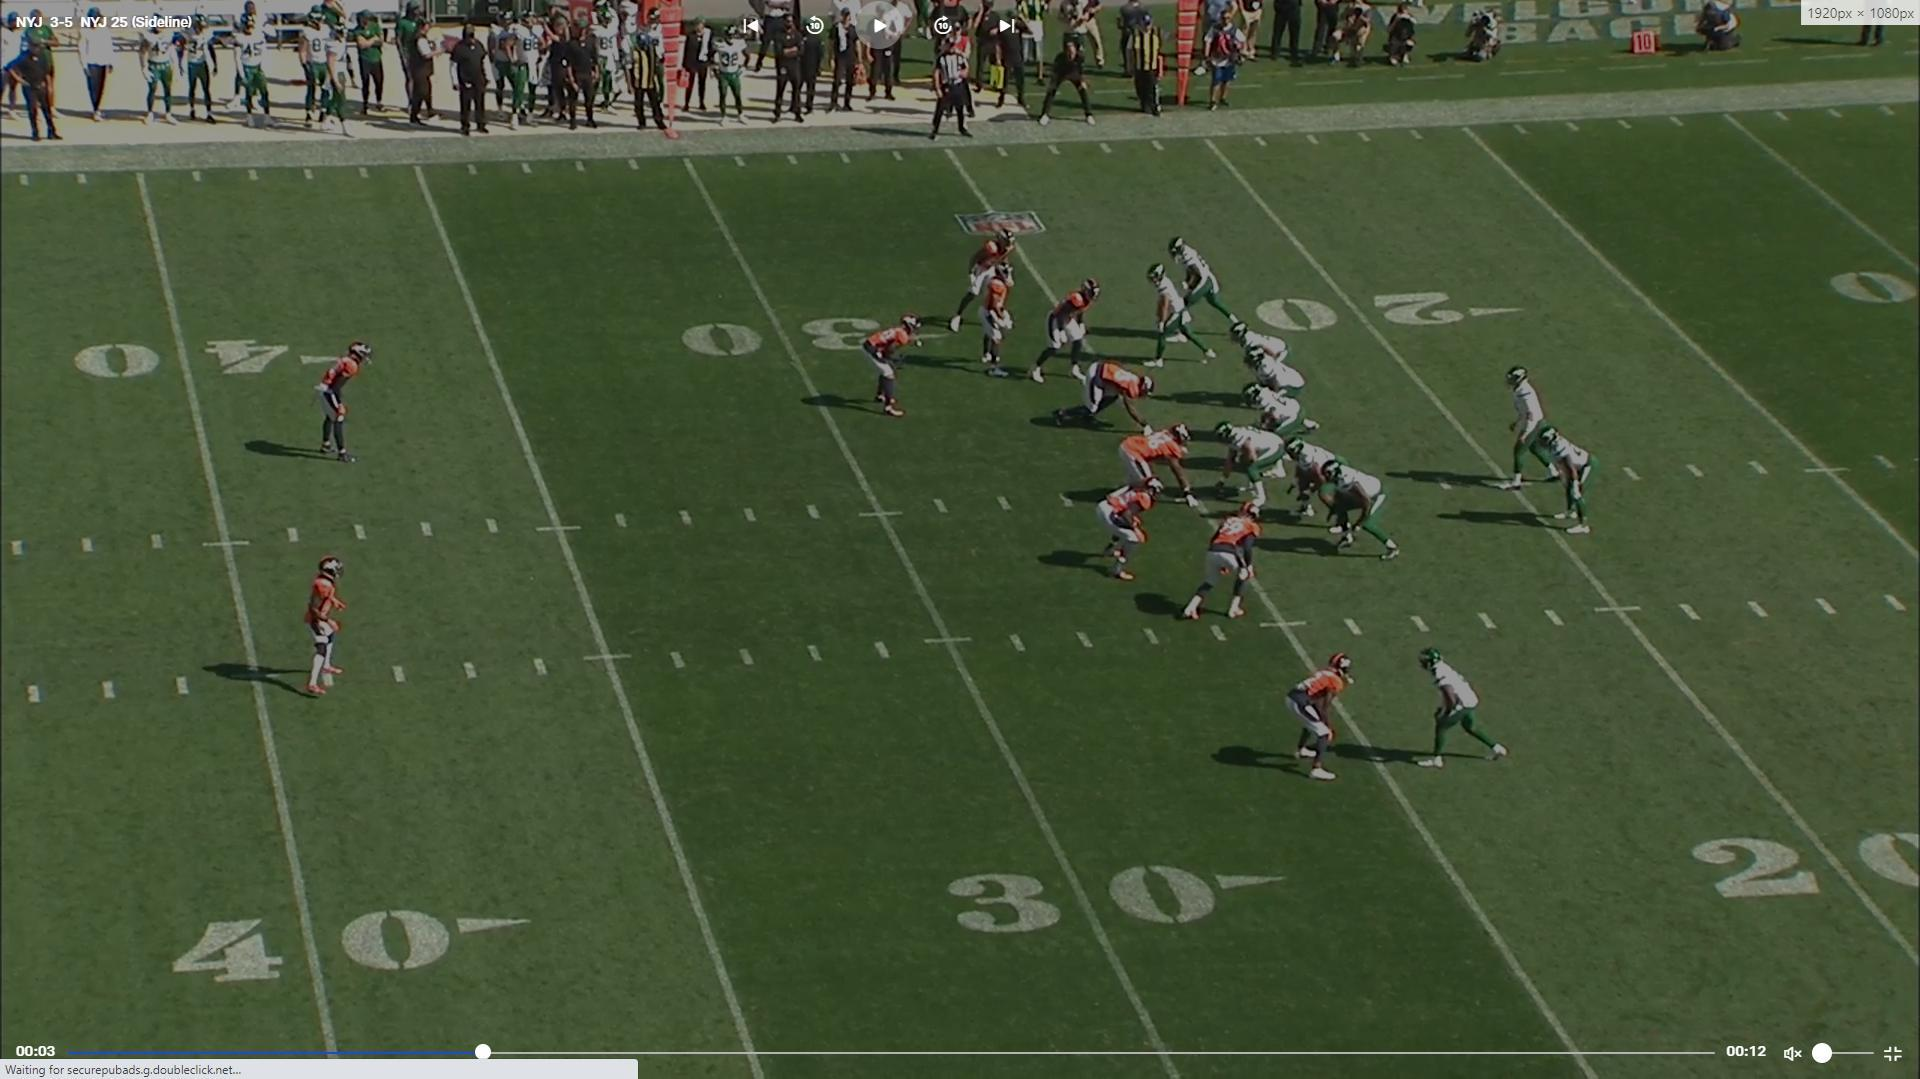player: (1420, 645, 1516, 775), (1185, 495, 1272, 622), (1285, 650, 1357, 788), (1321, 457, 1407, 563), (296, 552, 353, 702), (1030, 273, 1105, 386), (1160, 236, 1242, 338), (948, 226, 1024, 335), (314, 337, 374, 471), (1101, 477, 1167, 589), (1059, 359, 1156, 434), (1119, 423, 1202, 509), (1501, 365, 1551, 498), (1138, 264, 1199, 371), (1220, 422, 1292, 511), (1539, 428, 1593, 545), (863, 313, 919, 425), (1280, 438, 1347, 531), (974, 254, 1020, 382), (1243, 382, 1316, 440), (1241, 352, 1309, 407), (1234, 322, 1299, 368)
ref: (927, 35, 982, 150)
